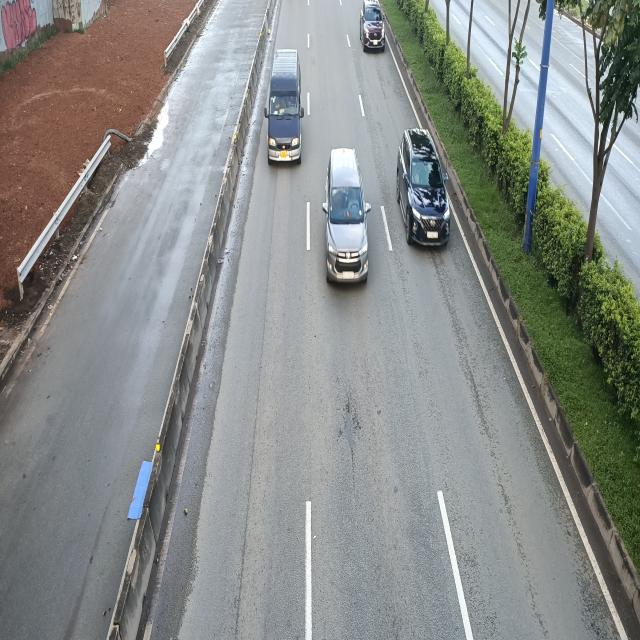car: (323, 149, 370, 286), (396, 129, 449, 249), (265, 49, 305, 167), (359, 1, 385, 53)
